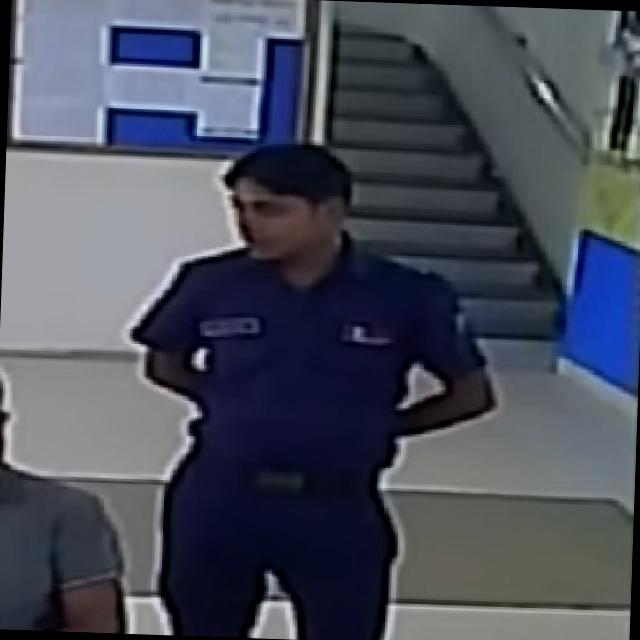person: (119, 133, 511, 640), (0, 368, 135, 633)
